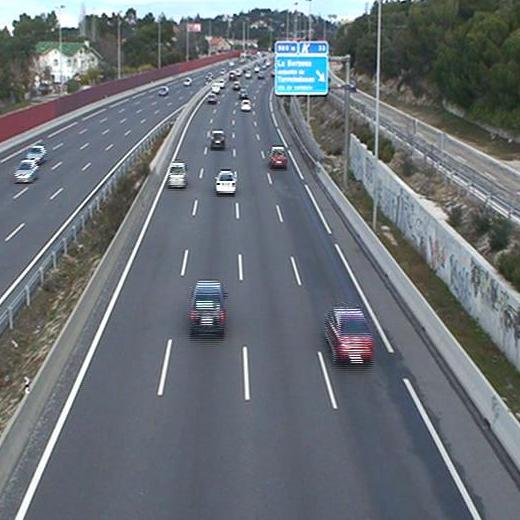car: (325, 306, 376, 367), (188, 280, 229, 335), (266, 145, 291, 168), (214, 170, 237, 194), (168, 162, 188, 188), (210, 129, 227, 149), (240, 98, 250, 109)
